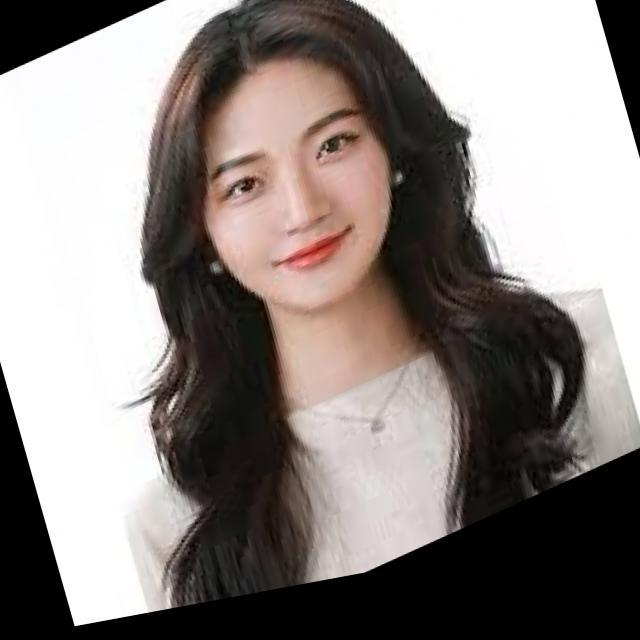Nonhelmet: (149, 12, 394, 311)
